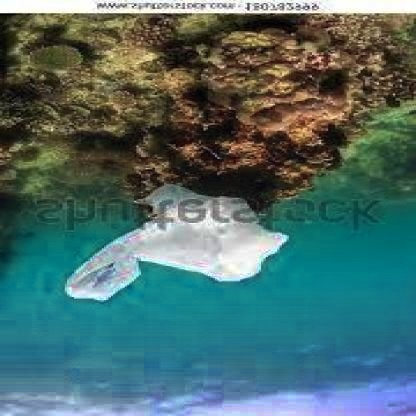pbag: (62, 184, 289, 303)
